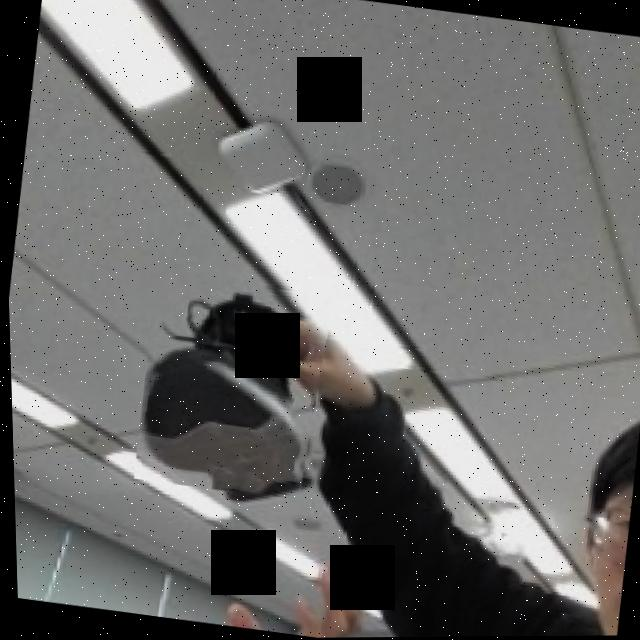shoe: (126, 268, 337, 504)
